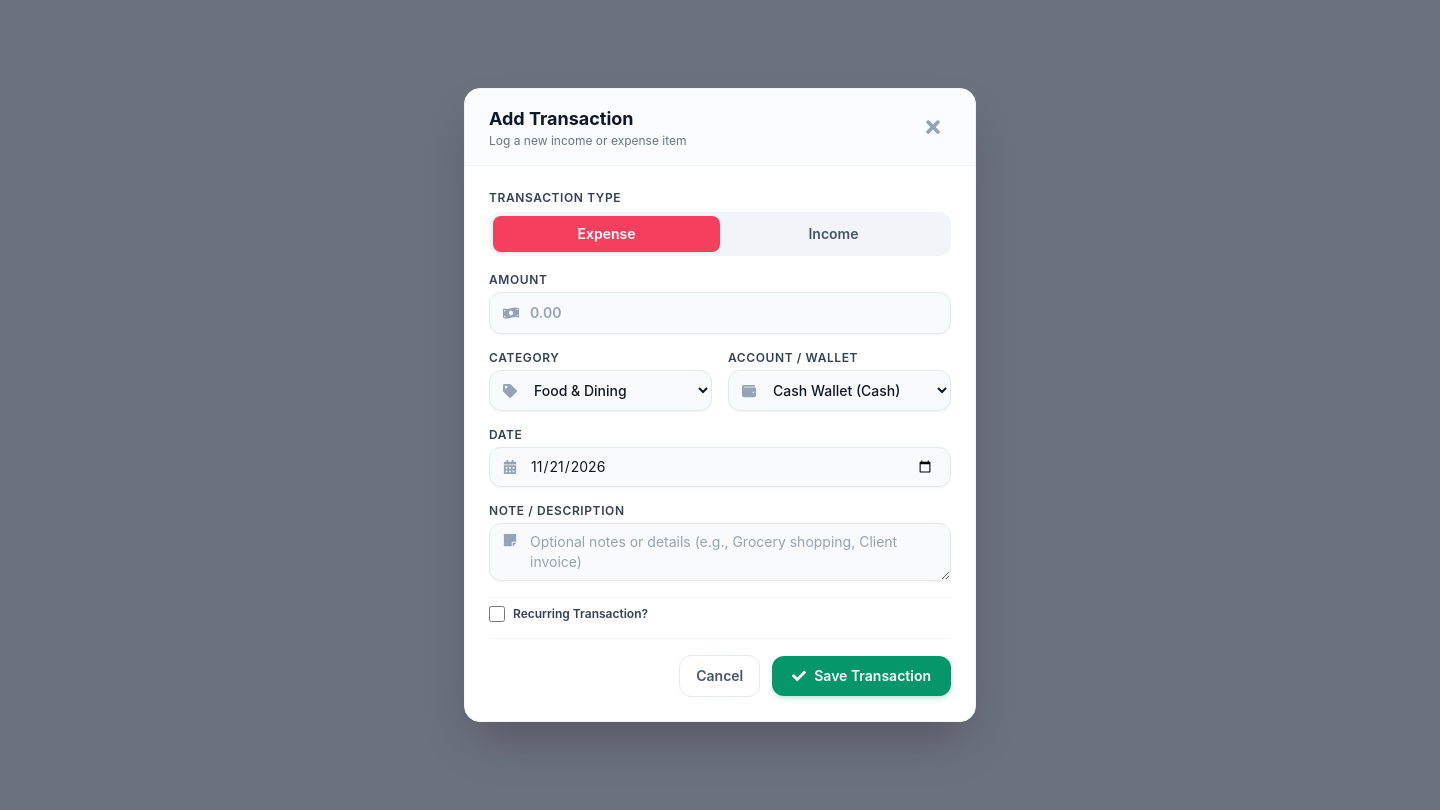
Test: TransactionModal Component › enforces amount validation: prevents submission and shows error when amount is empty
// Leave amount empty and trigger form submission via save button click
Click the button "Save Transaction".
click(862, 676)  # box [772, 656, 951, 696]
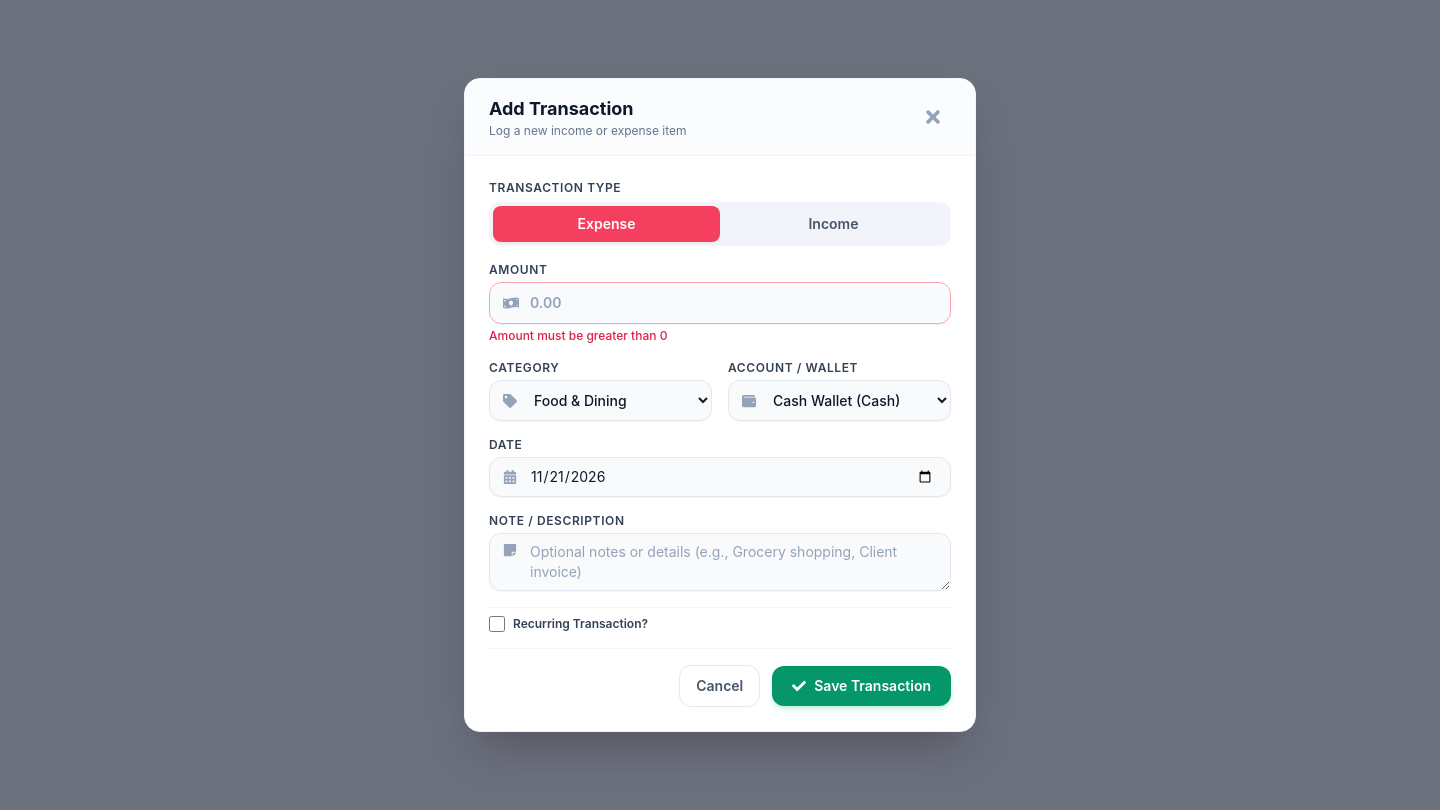
Check: the text "Amount must be greater than 0" is shown, box [489, 328, 667, 343]
